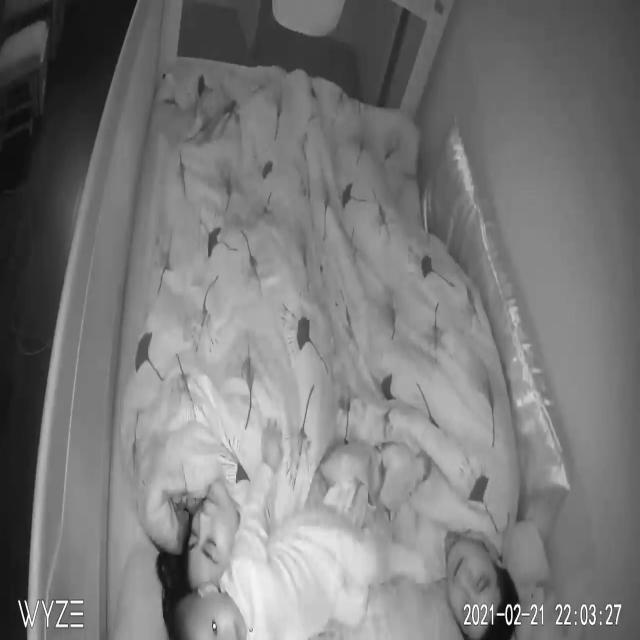baby: (166, 426, 424, 639)
